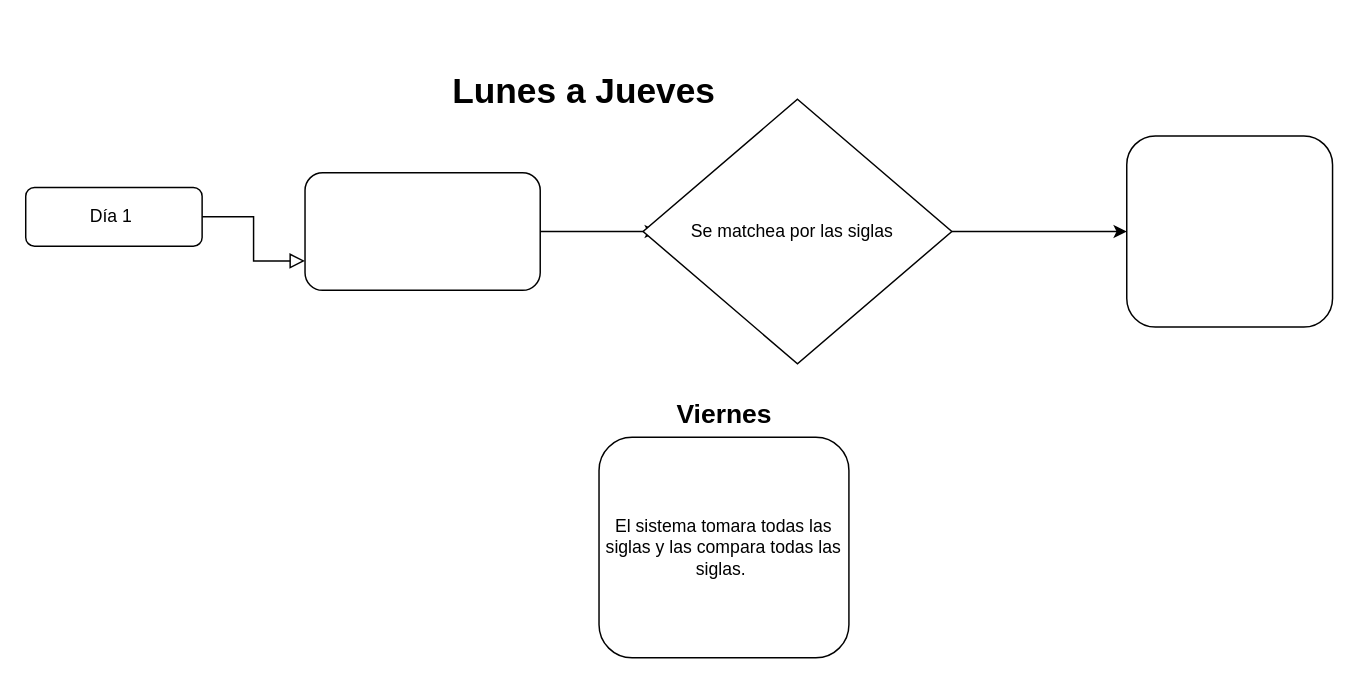
Image size: 1358x684. Some labels were removed from this diagram. The box of each missing label's shape, as (x1, y1, x2, y2) in pixels:
Calcula Total de personas que coinciden y muestra Resultado: (1125, 135, 1333, 327)
Se le asigna Sigla A,B,C dependiendo de su respuestas: (304, 171, 540, 290)
